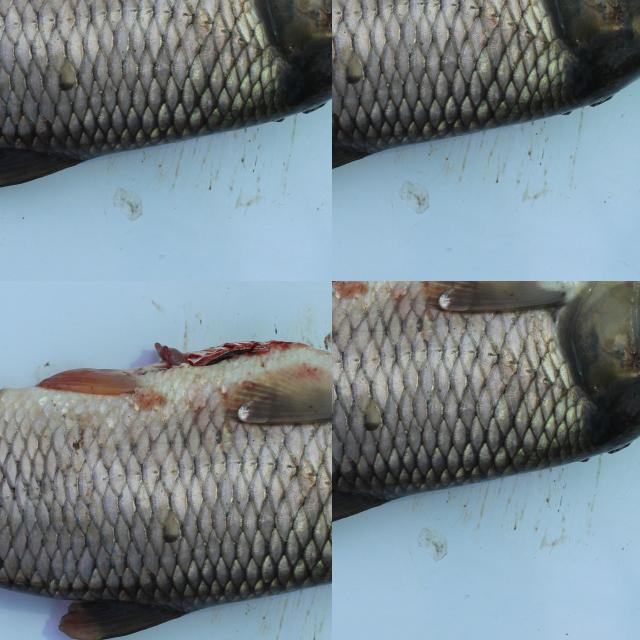fish: (332, 281, 640, 501)
